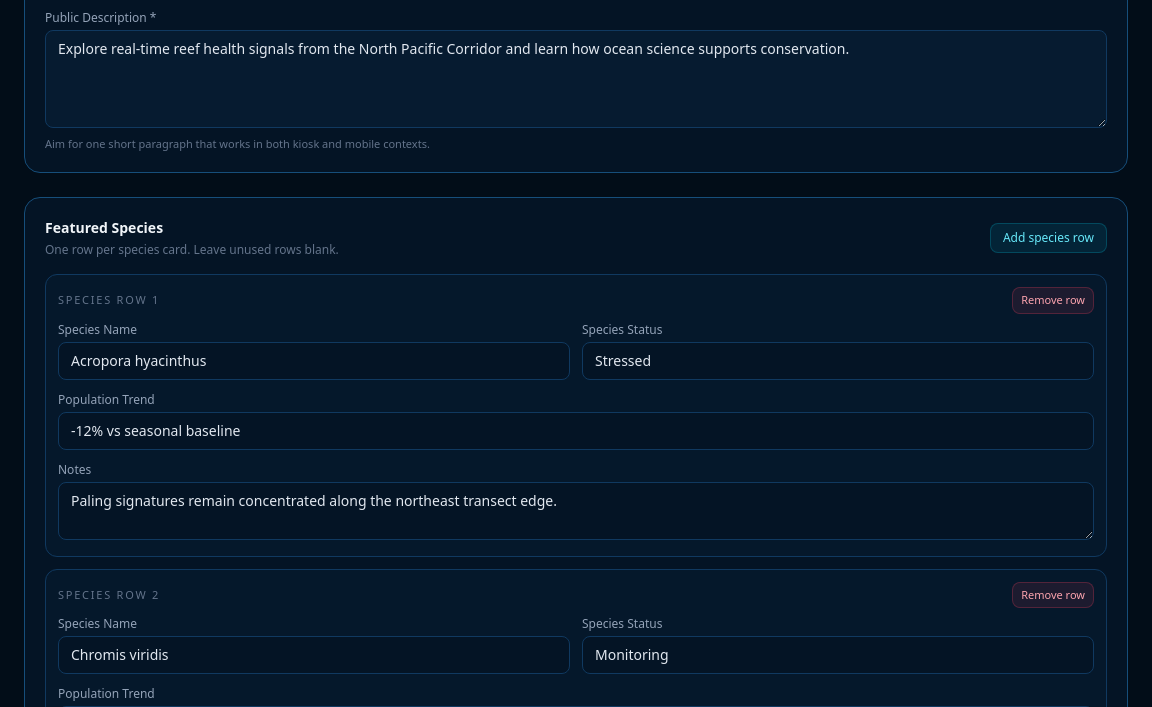
Test: station admin workspace refreshes draft rows when station content updates with the same id
(page scrolled)
Replace the text in the 1st field labelled "Species Name" with "Local Draft Species" at (314, 360), box [58,342,570,380]
(page scrolled)
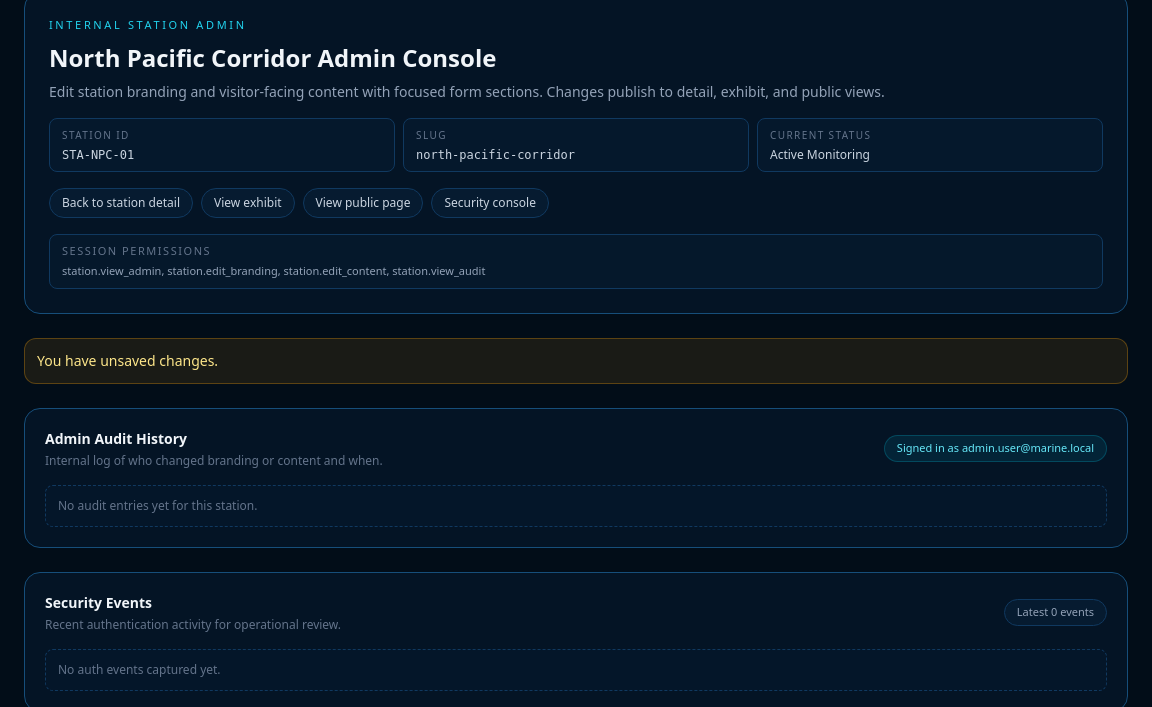
Expected: the text "You have unsaved changes." is shown, [24,338,1128,384]
